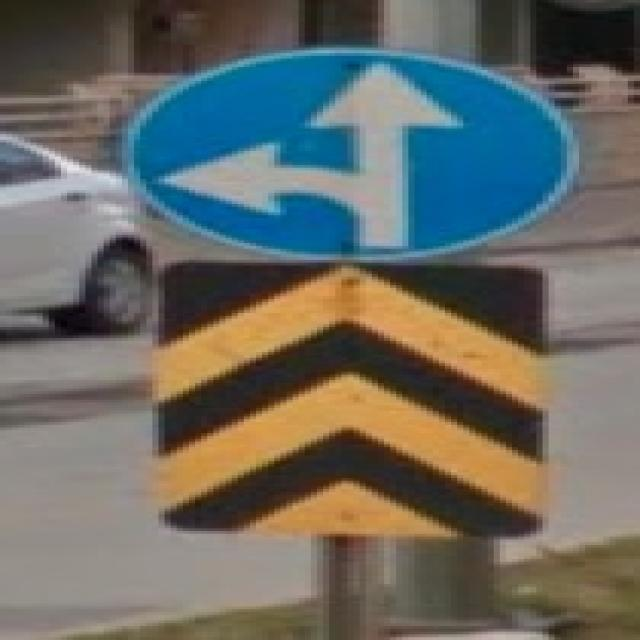Straight or Left: (126, 48, 577, 261)
